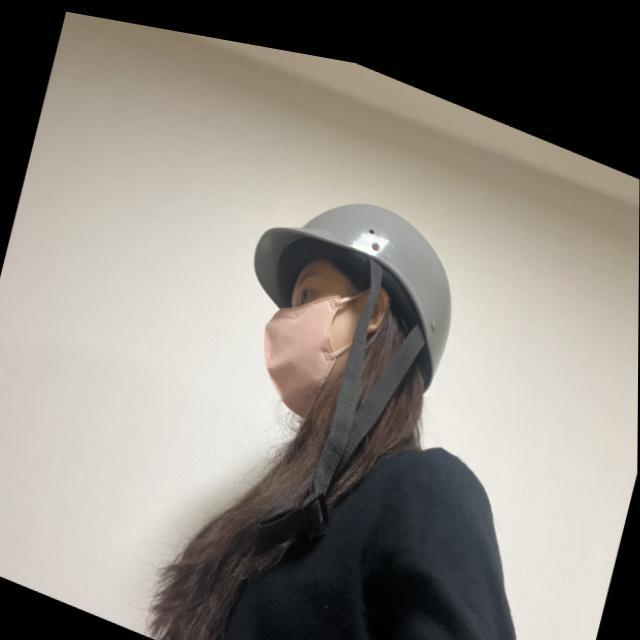Helmet: (243, 188, 459, 436)
